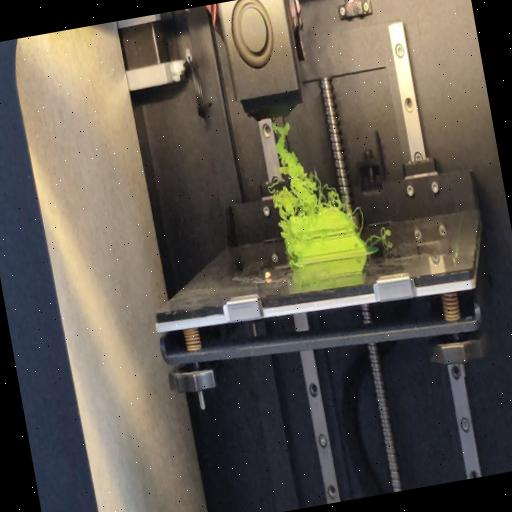spaghetti: (261, 116, 345, 228), (277, 230, 299, 270), (349, 199, 366, 233), (366, 226, 394, 246)
